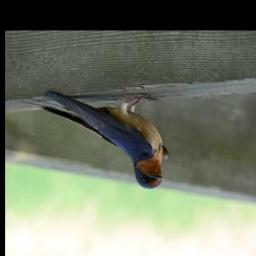Swallow: (18, 89, 170, 192)
